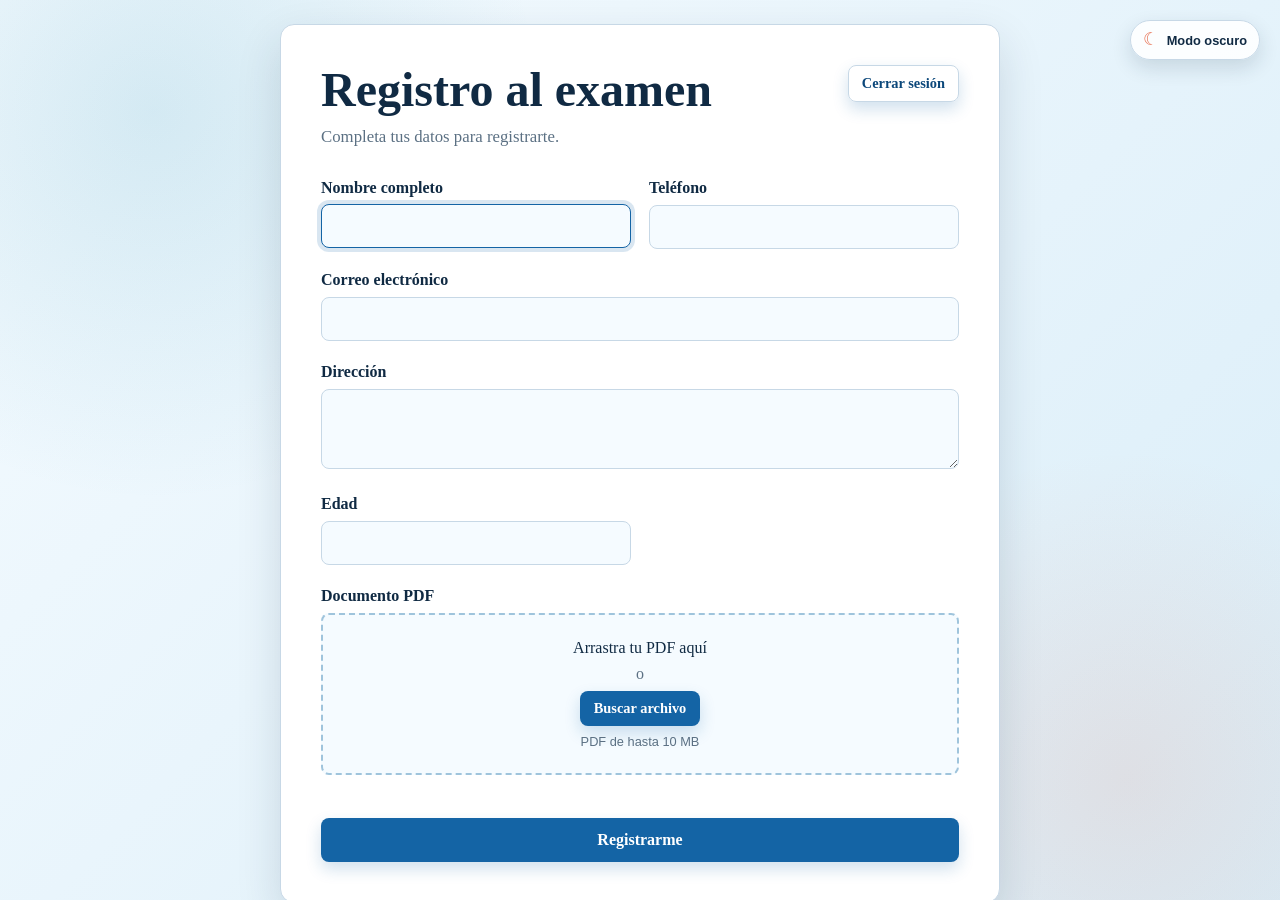
Test: RegistrationPage › cierra la sesión y vuelve al login
Click the button "Cerrar sesión" at (903, 84), box [848, 65, 959, 102]
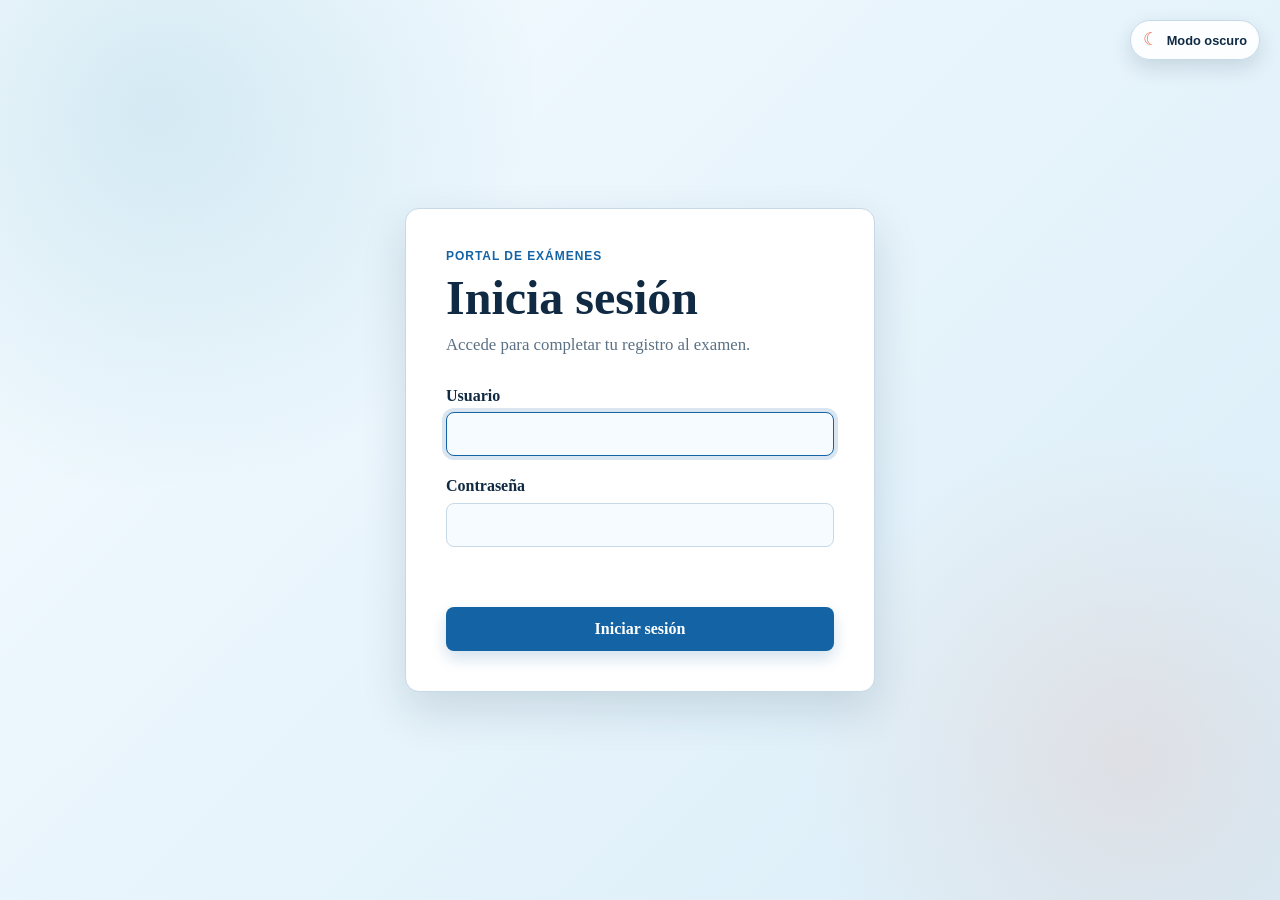
Result: the heading "Inicia sesión" is shown at [446, 271, 698, 324]
